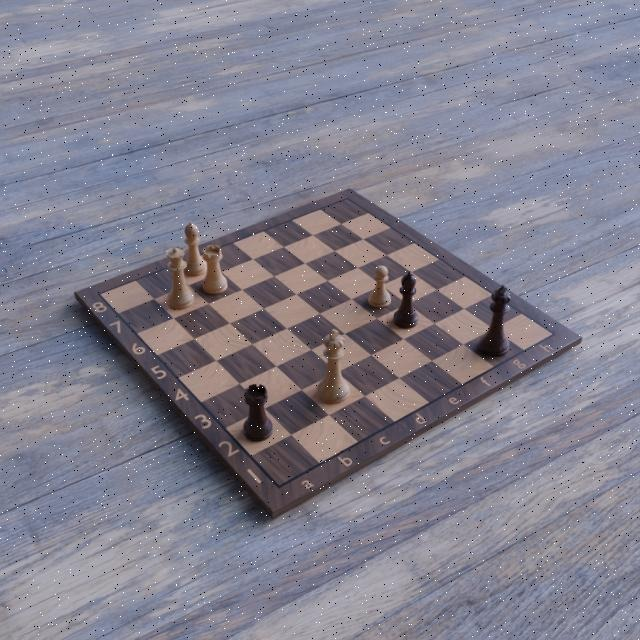black-bishop: (391, 268, 421, 329)
black-king: (476, 283, 511, 358)
black-rook: (242, 381, 274, 443)
white-bishop: (182, 223, 207, 277)
white-king: (316, 326, 350, 406)
white-pawn: (366, 262, 392, 310)
white-queen: (165, 246, 195, 312)
white-rook: (200, 243, 228, 297)
